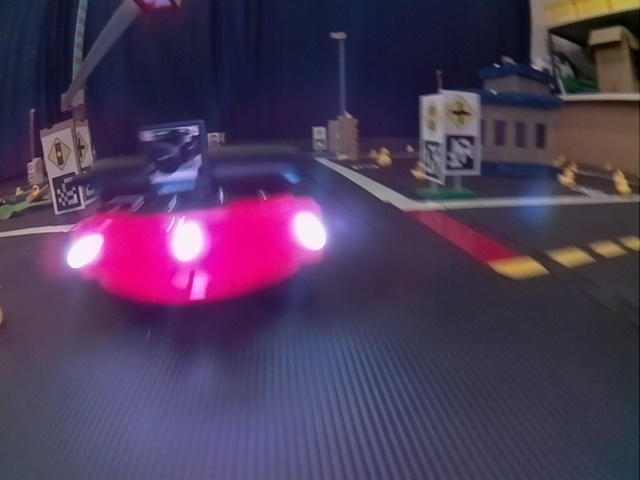Duckie: (558, 169, 575, 186), (378, 154, 392, 167)
Duckiebot: (66, 128, 322, 305)
Intersection sign: (444, 94, 478, 131), (77, 129, 89, 164)
QR code: (51, 174, 85, 210), (446, 133, 477, 172), (420, 140, 445, 178)
Signal sign: (42, 132, 73, 171), (422, 98, 439, 137)
